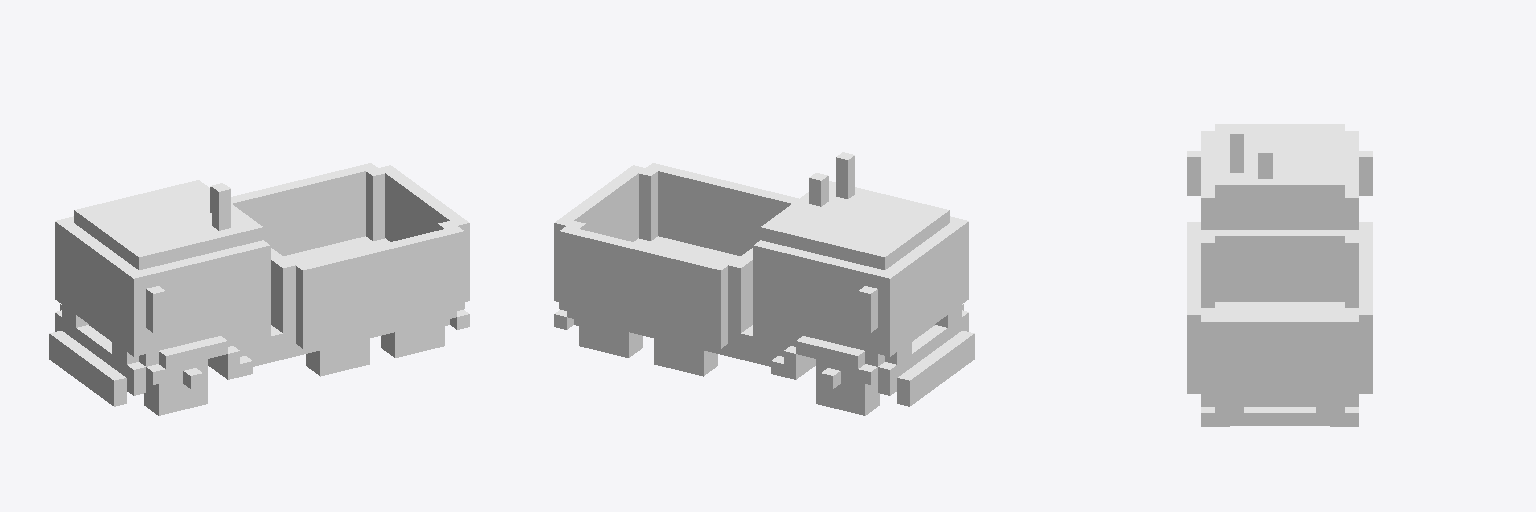
The model's file is truck_open.obj.
3 views of the same model, side by side, from view 1: azimuth 30°, elevation 25°; view 2: azimuth 150°, elevation 25°; view 3: azimuth 270°, elevation 25° (orthographic).
Parts seen in each view (by area): view 1: object 1; view 2: object 1; view 3: object 1.
Part boxes in pixels (x1,y1,x2,y2): object 1: (49, 163, 469, 415); object 1: (554, 152, 974, 415); object 1: (1187, 124, 1372, 426).
Size of the model in its own units: 2.8 by 1.5 by 1.3.